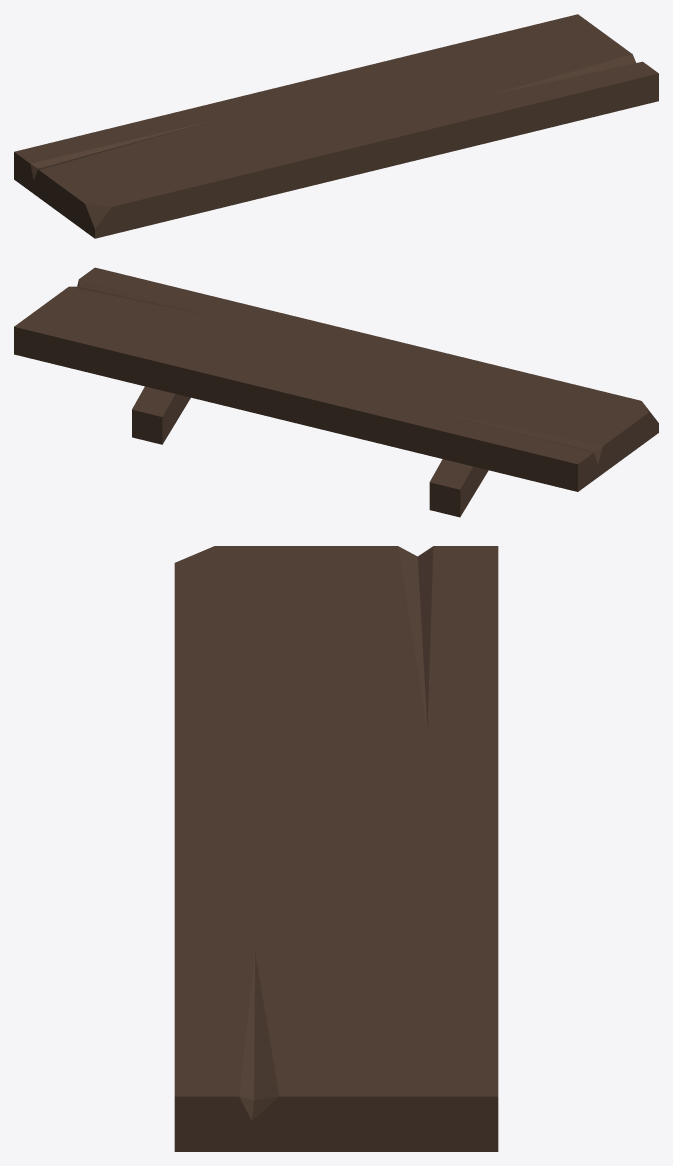
File: shelf.fbx
The picture shows the model from 3 angles, top to bottom: view 1: azimuth 30°, elevation 25°; view 2: azimuth 150°, elevation 25°; view 3: azimuth 270°, elevation 25°; orthographic projection. The views are drawn at different scales.
Parts seen in each view (by area): view 1: shelf; view 2: shelf; view 3: shelf.
Boxes of the visible parts, x1,y1,x2,y2 form: shelf: (14, 14, 658, 238); shelf: (14, 267, 658, 517); shelf: (174, 546, 498, 1151).
Bounding box in the file's own units: 200 × 27.74 × 49.74.
